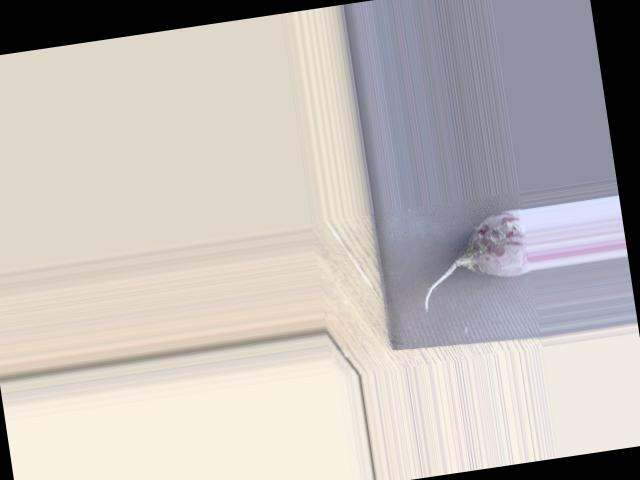beet: (412, 208, 534, 311)
